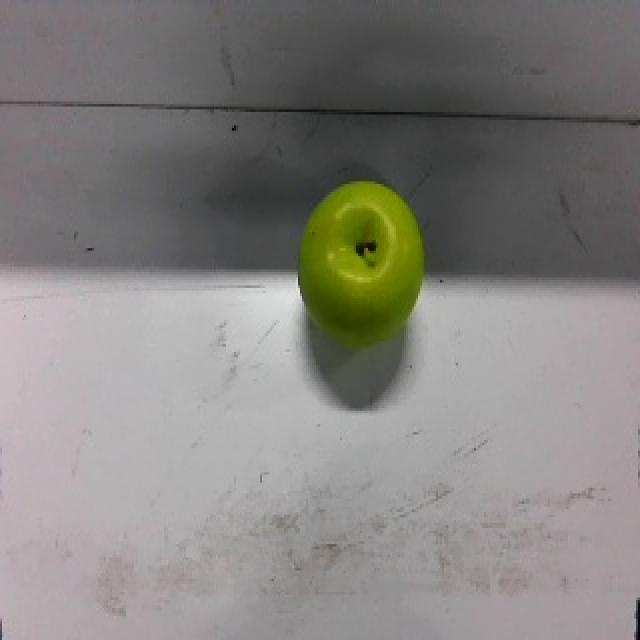apple: (296, 176, 428, 350)
